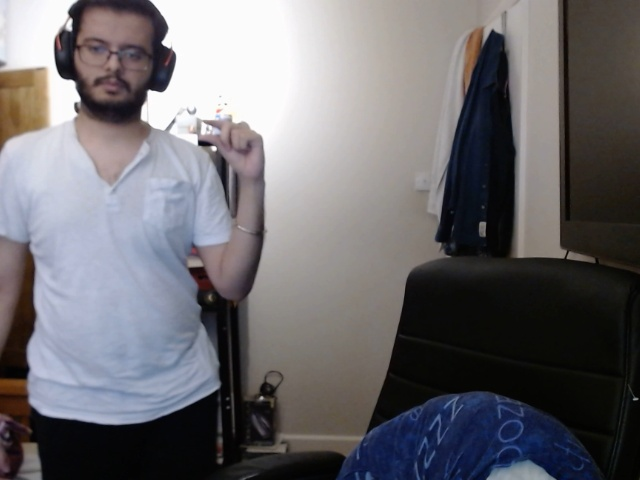Small: (192, 113, 270, 188)
